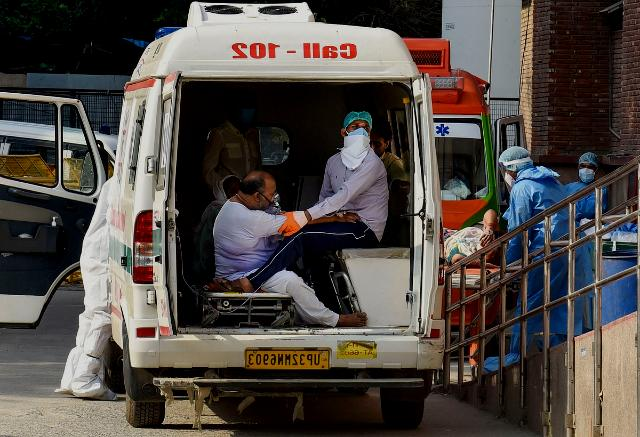ambulance: (108, 22, 443, 426), (404, 38, 504, 229)
